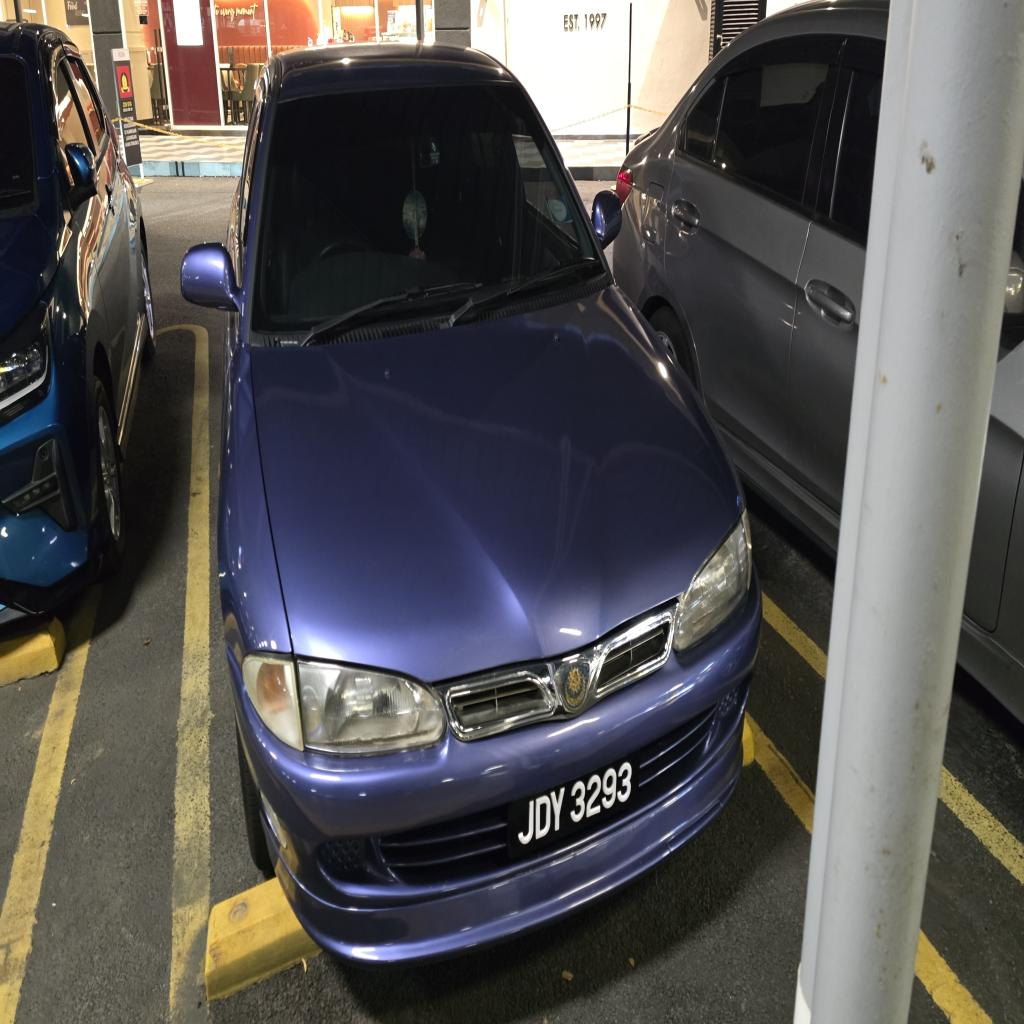car: (181, 45, 761, 962)
car plate: (508, 759, 634, 858)
